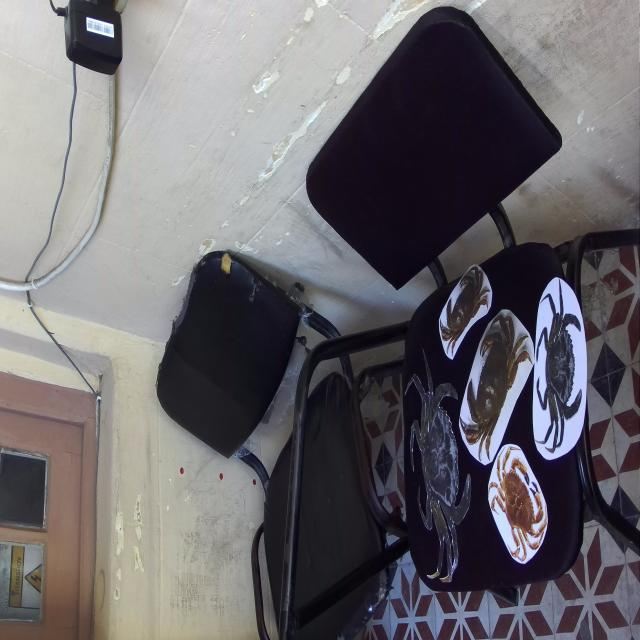European_Green_Crab: (396, 336, 483, 592), (534, 276, 584, 456)
